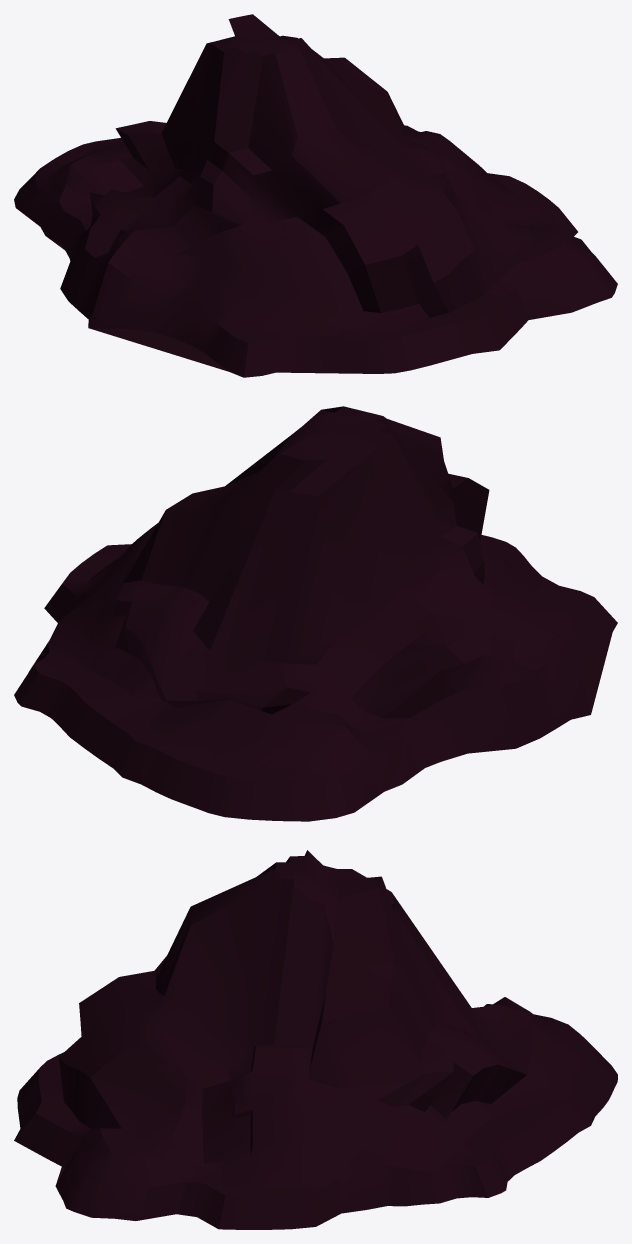
Rendered from volcanomount2.fbx.
The picture shows the model from 3 angles, top to bottom: view 1: azimuth 30°, elevation 25°; view 2: azimuth 150°, elevation 25°; view 3: azimuth 270°, elevation 25°; orthographic projection. The views are drawn at different scales.
Parts seen in each view (by area): view 1: Plane.007; view 2: Plane.007; view 3: Plane.007.
Part boxes in pixels (bbox=[...]): Plane.007: bbox=[14, 14, 617, 377]; Plane.007: bbox=[14, 406, 617, 821]; Plane.007: bbox=[14, 850, 617, 1229].
Size of the model in its own units: 2901 by 1337 by 3225.
